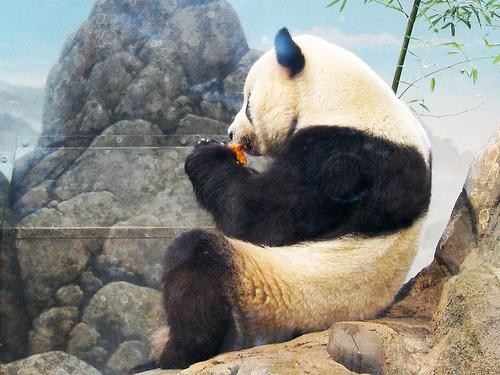panda: (156, 29, 431, 368)
